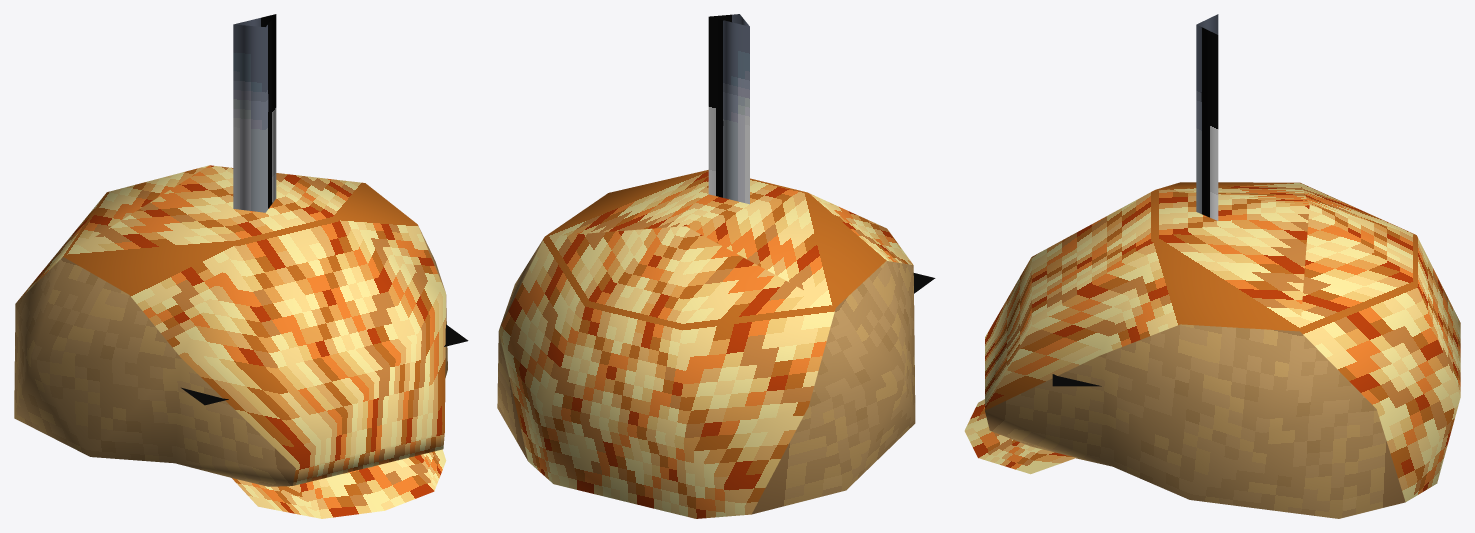
3 views of the same model, side by side, from view 1: azimuth 30°, elevation 25°; view 2: azimuth 150°, elevation 25°; view 3: azimuth 270°, elevation 25° (orthographic). The views are drawn at different scales.
Parts seen in each view (by area): view 1: 2896head032_c; view 2: 2896head032_c; view 3: 2896head032_c.
Part boxes in pixels (<box>): 2896head032_c: <box>14,14,468,518</box>; 2896head032_c: <box>497,14,935,518</box>; 2896head032_c: <box>964,14,1460,518</box>.
Size of the model in its own units: 0.7061 by 0.7007 by 0.7456.
Materials: 2 (2 with a texture image).
